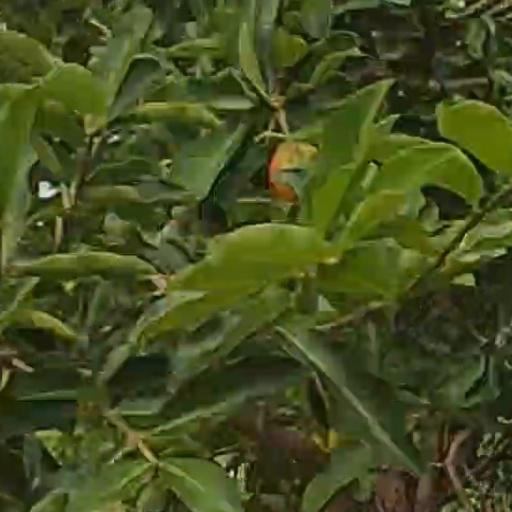acerola_vermelha: (269, 143, 308, 194)
